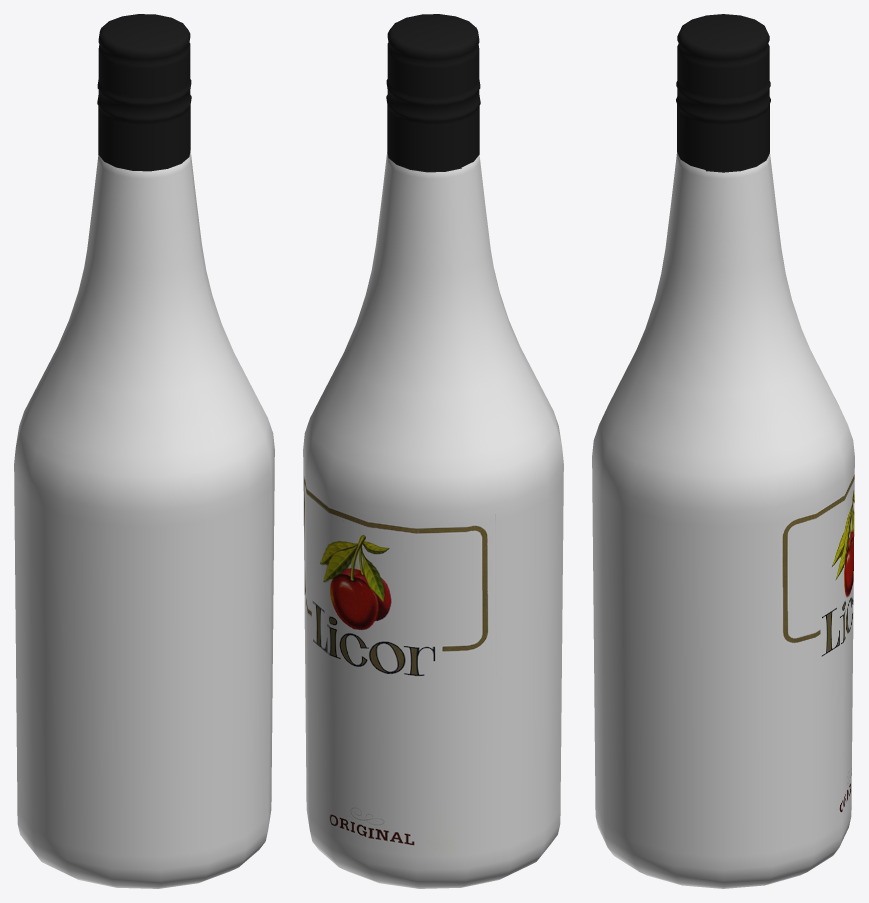
Rendered from Liqueur bottle.FBX.
3 renders of one model, left to right at view 1: azimuth 30°, elevation 25°; view 2: azimuth 150°, elevation 25°; view 3: azimuth 270°, elevation 25°, orthographic.
Parts seen in each view (by area): view 1: liqueur bottle; view 2: liqueur bottle; view 3: liqueur bottle.
Part boxes in pixels (x1,y1,x2,y2): liqueur bottle: (14,14,274,888); liqueur bottle: (303,14,563,888); liqueur bottle: (592,14,854,888).
Size of the model in its own units: 7.97 by 27.23 by 7.97.
1 material, 1 textured.
